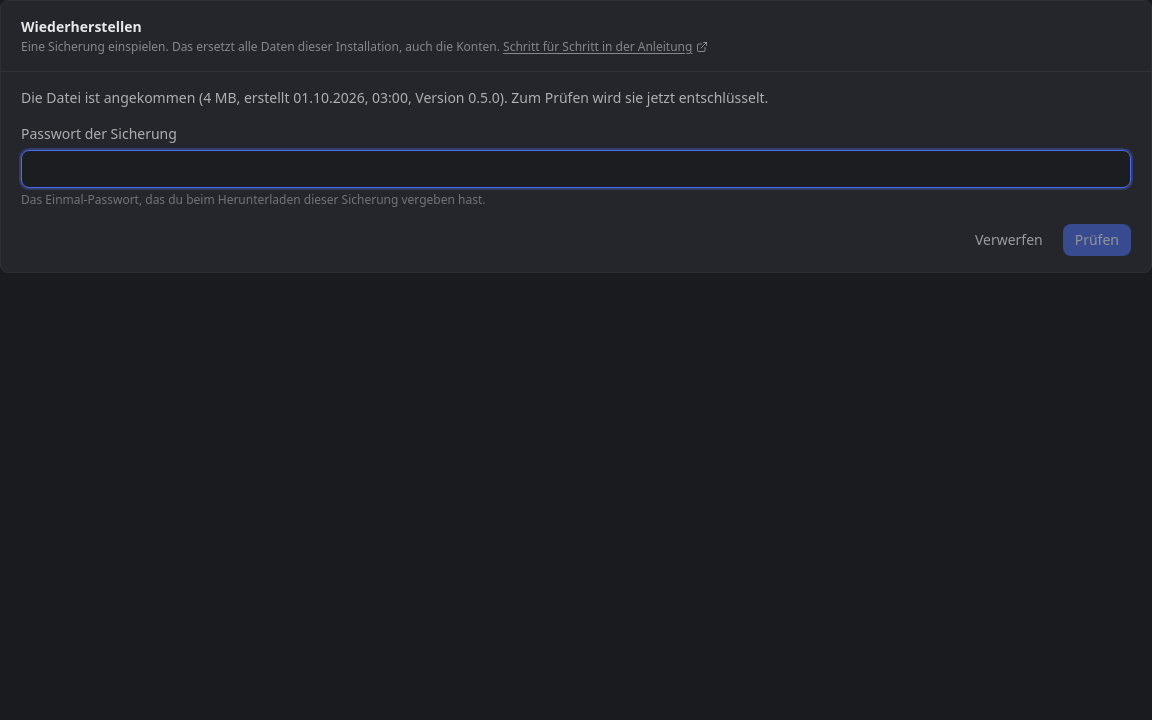
Test: Karte Wiederherstellen: Ablauf › falsches Passwort der Sicherung: Meldung, die Datei bleibt, noch ein Versuch
The width and height of the screenshot is (1152, 720).
Type "falsch-falsch-1" into the password field named "Passwort der Sicherung" at (576, 169), box [21, 150, 1131, 188]
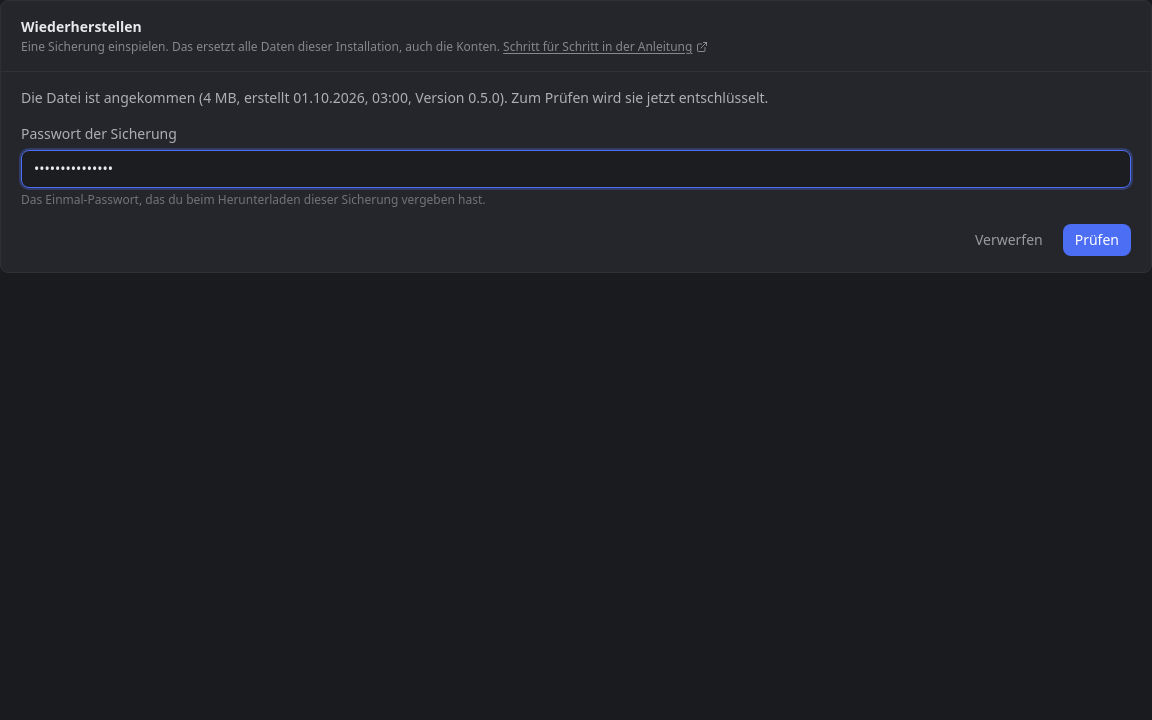
Click the button "Prüfen" at (1097, 240), box [1063, 224, 1131, 256]
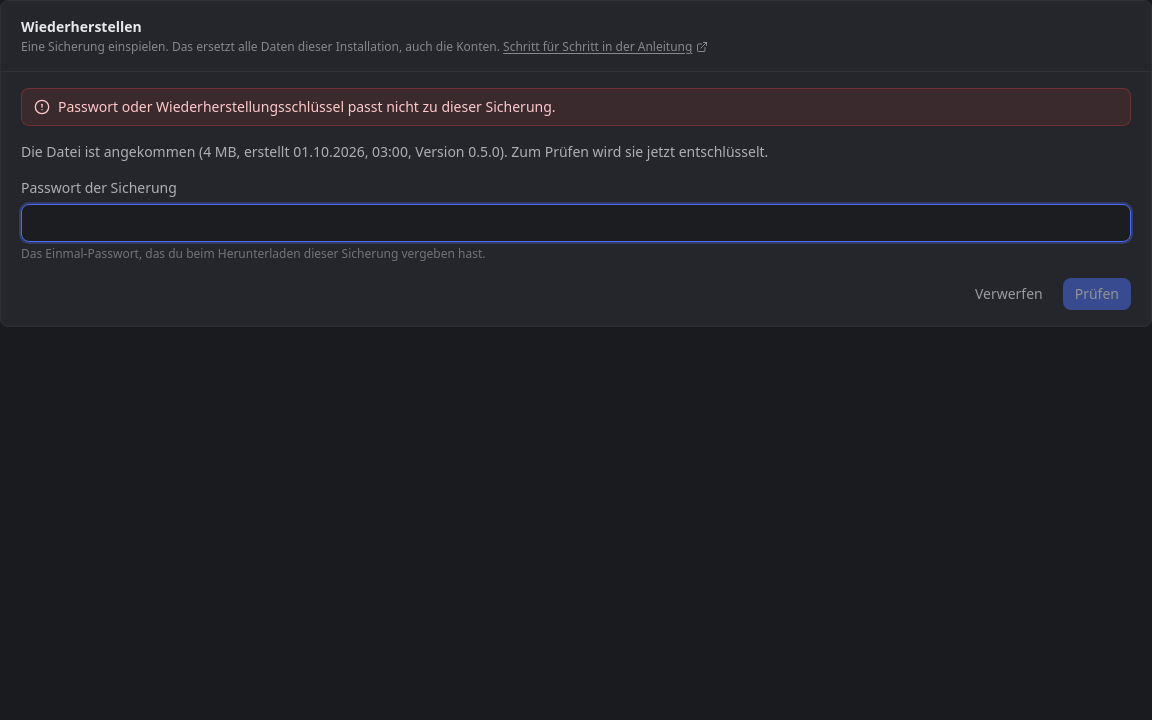
Result: the message shows "passt nicht zu dieser Sicherung" at [58, 97, 556, 116]
Result: the password field labelled "Passwort der Sicherung" is empty
Type "richtig-richtig-1" into the password field labelled "Passwort der Sicherung" at (576, 223), box [21, 204, 1131, 242]
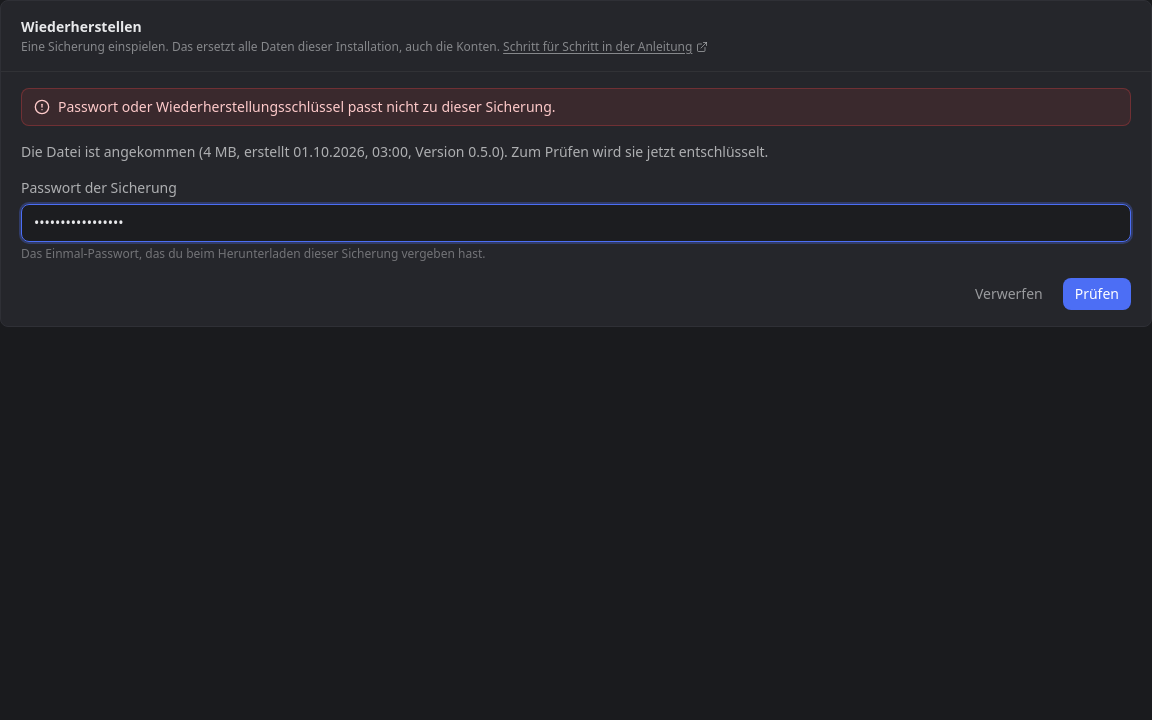
Click the button "Prüfen" at (1097, 294), box [1063, 278, 1131, 310]
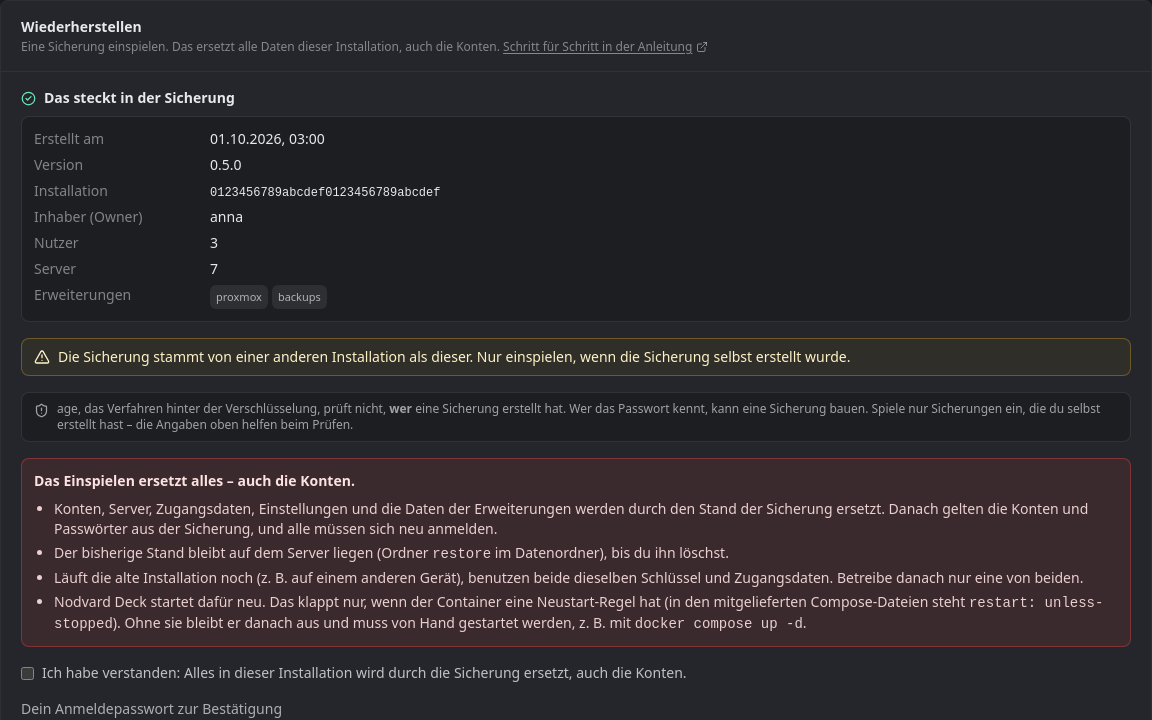
Result: the heading "Das steckt in der Sicherung" is shown at [21, 88, 235, 107]
